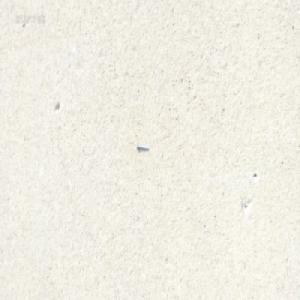Nail: (135, 142, 148, 150)
